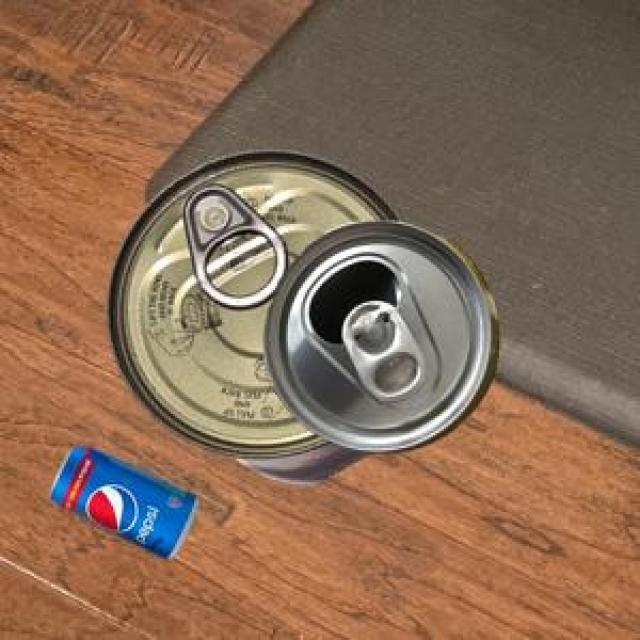Can: (103, 148, 396, 481), (261, 219, 496, 449), (48, 445, 195, 556)
